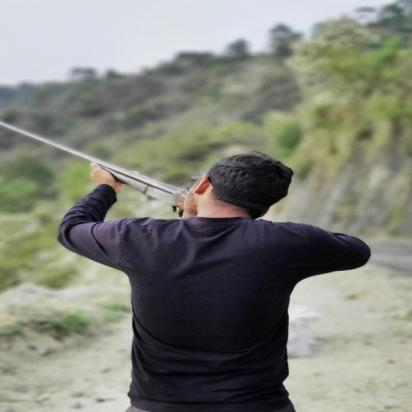Gun: (0, 120, 209, 223)
